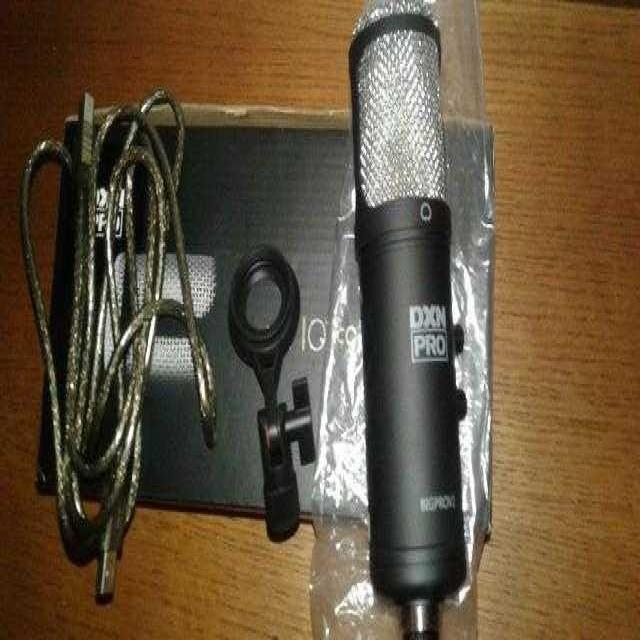microphone: (346, 4, 468, 630)
